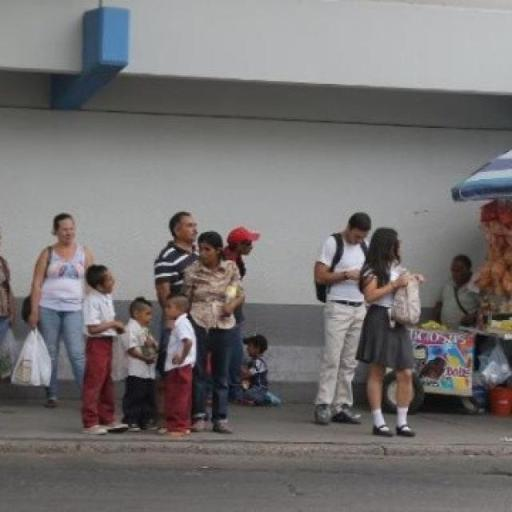person: (312, 213, 378, 426), (359, 226, 425, 439), (30, 212, 96, 409), (182, 237, 239, 432), (435, 255, 489, 414), (155, 206, 211, 349), (82, 268, 129, 436), (226, 228, 261, 409), (156, 294, 197, 436), (125, 299, 162, 435), (1, 251, 20, 393)
